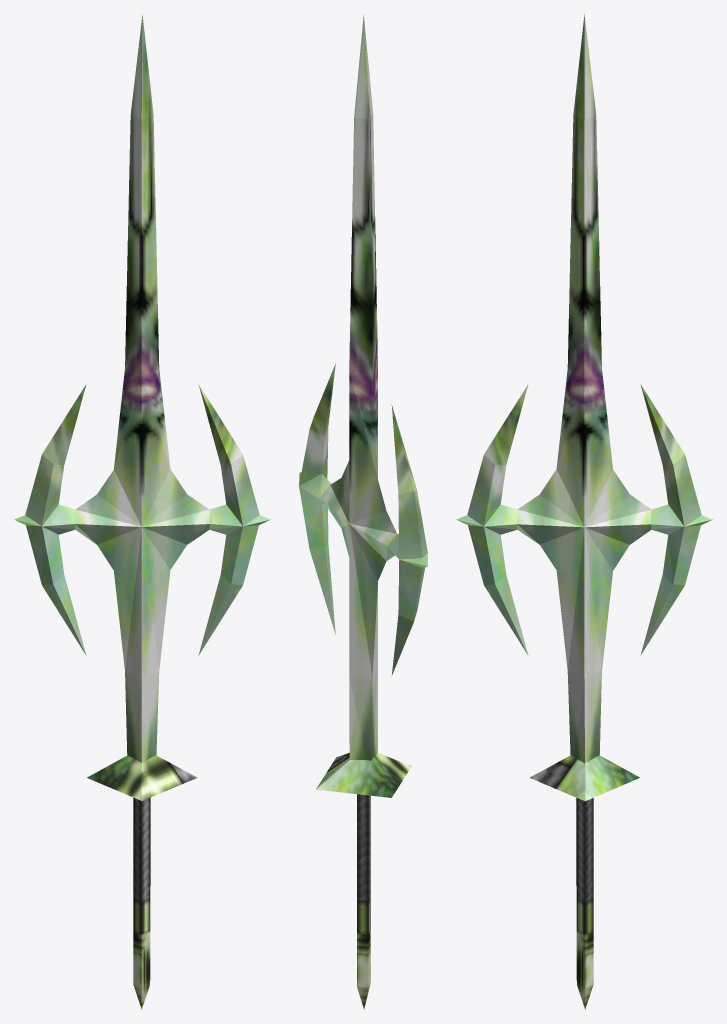
The model's file is heavyblade06_1.obj.
3 views of the same model, side by side, from view 1: azimuth 90°, elevation 25°; view 2: azimuth 210°, elevation 25°; view 3: azimuth 270°, elevation 25° (orthographic).
Visible parts, largest first — view 1: MDL_cw2hsw06_1; view 2: MDL_cw2hsw06_1; view 3: MDL_cw2hsw06_1.
Part boxes in pixels (left/top/right/bottom): MDL_cw2hsw06_1: left=14, top=14, right=270, bottom=1009; MDL_cw2hsw06_1: left=299, top=15, right=427, bottom=1009; MDL_cw2hsw06_1: left=456, top=14, right=712, bottom=1009.
Bounding box in the file's own units: 0.1987 × 1.97 × 0.46.
